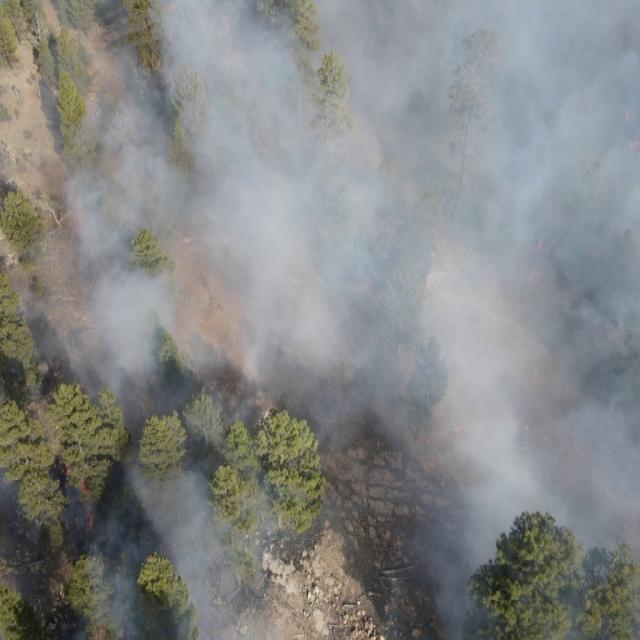fire: (62, 463, 98, 535), (623, 106, 640, 154), (534, 237, 546, 252)
smoke: (0, 0, 640, 640)
